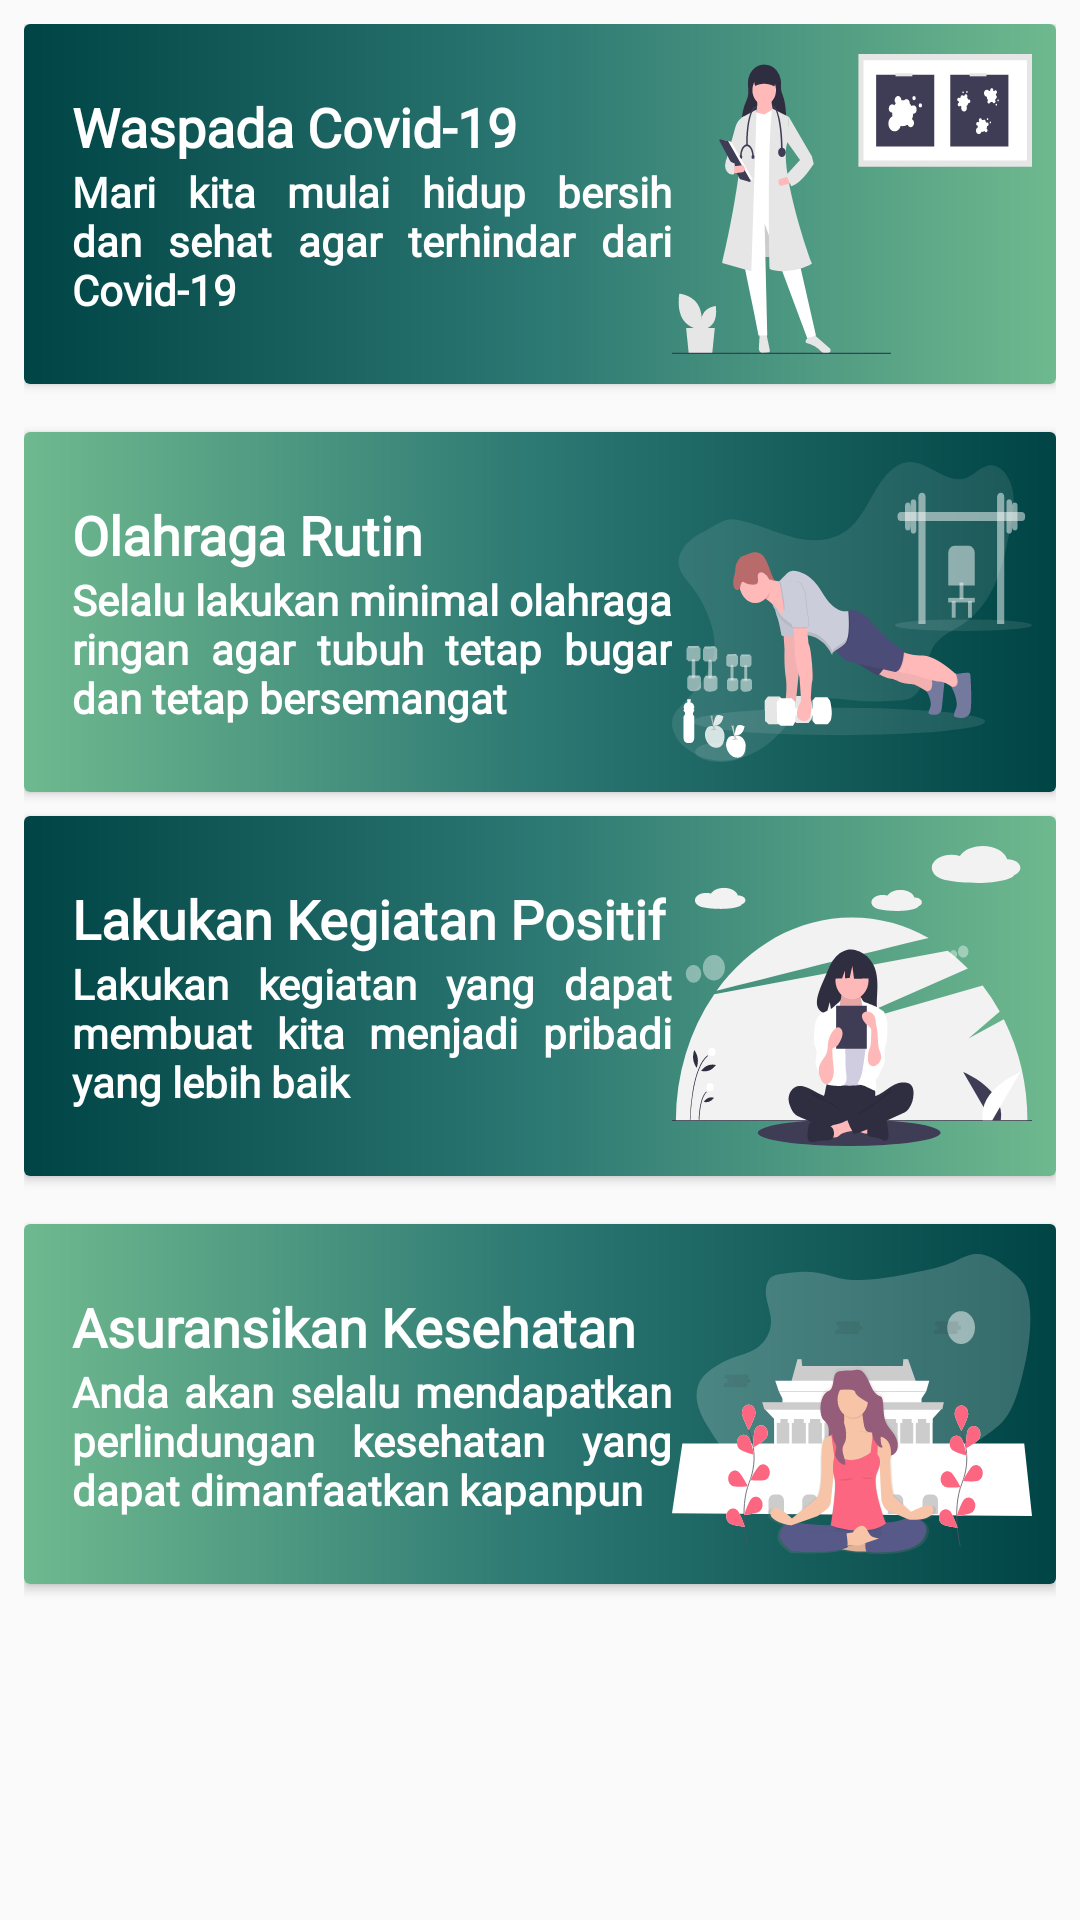

Named icons in this screenshot (1080px x 1920px) and their centers, (x=x, y=y):
book: (x=852, y=996)
dashboard doctor: (x=852, y=204)
healty: (x=852, y=612)
